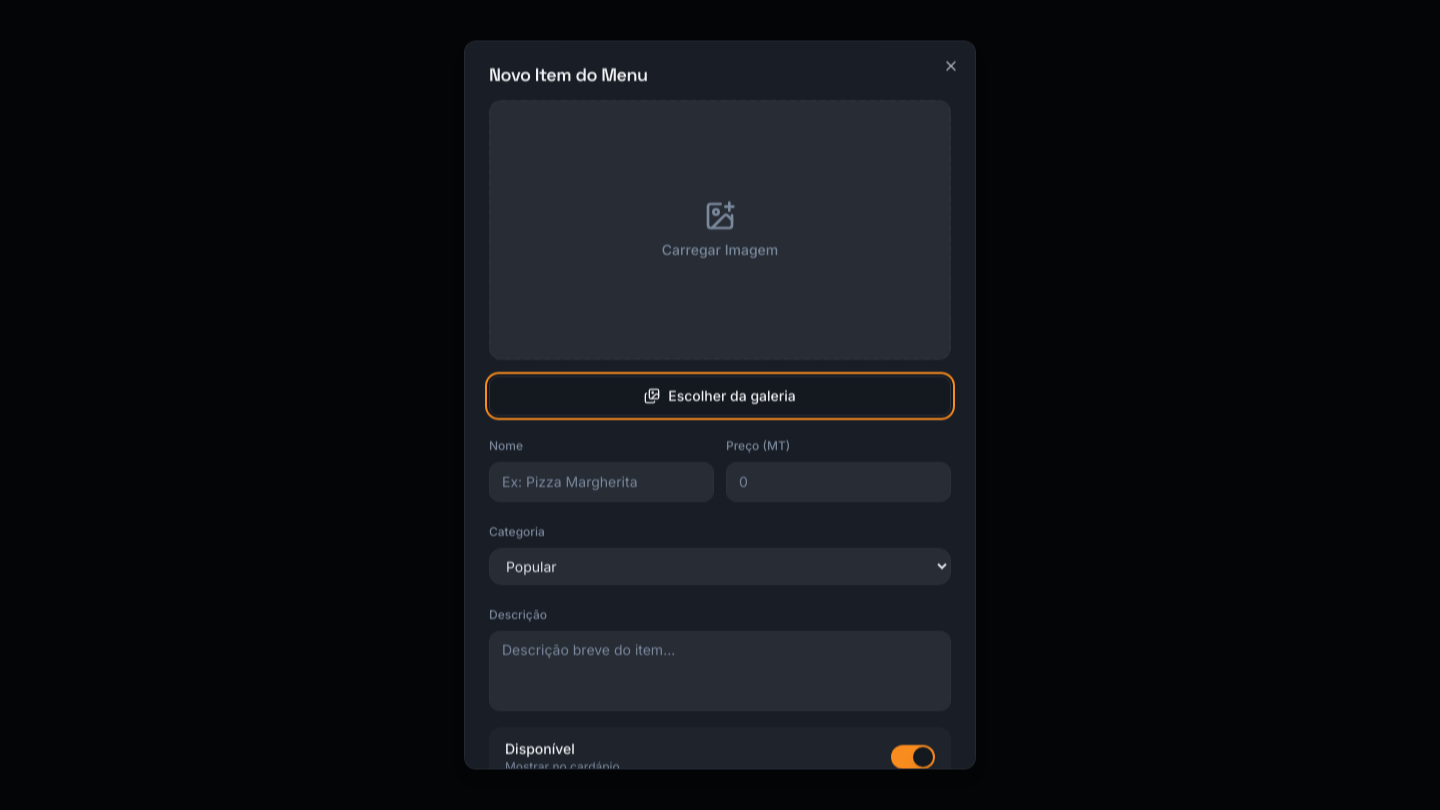
it: MenuItemDialog — categoria "Bebidas" › vincula uma bebida nova ao inventário e mostra o texto de desconto de stock
Select "Bebidas" in the dropdown showing "Popular" at (720, 566), box [489,547,951,584]
(page scrolled)
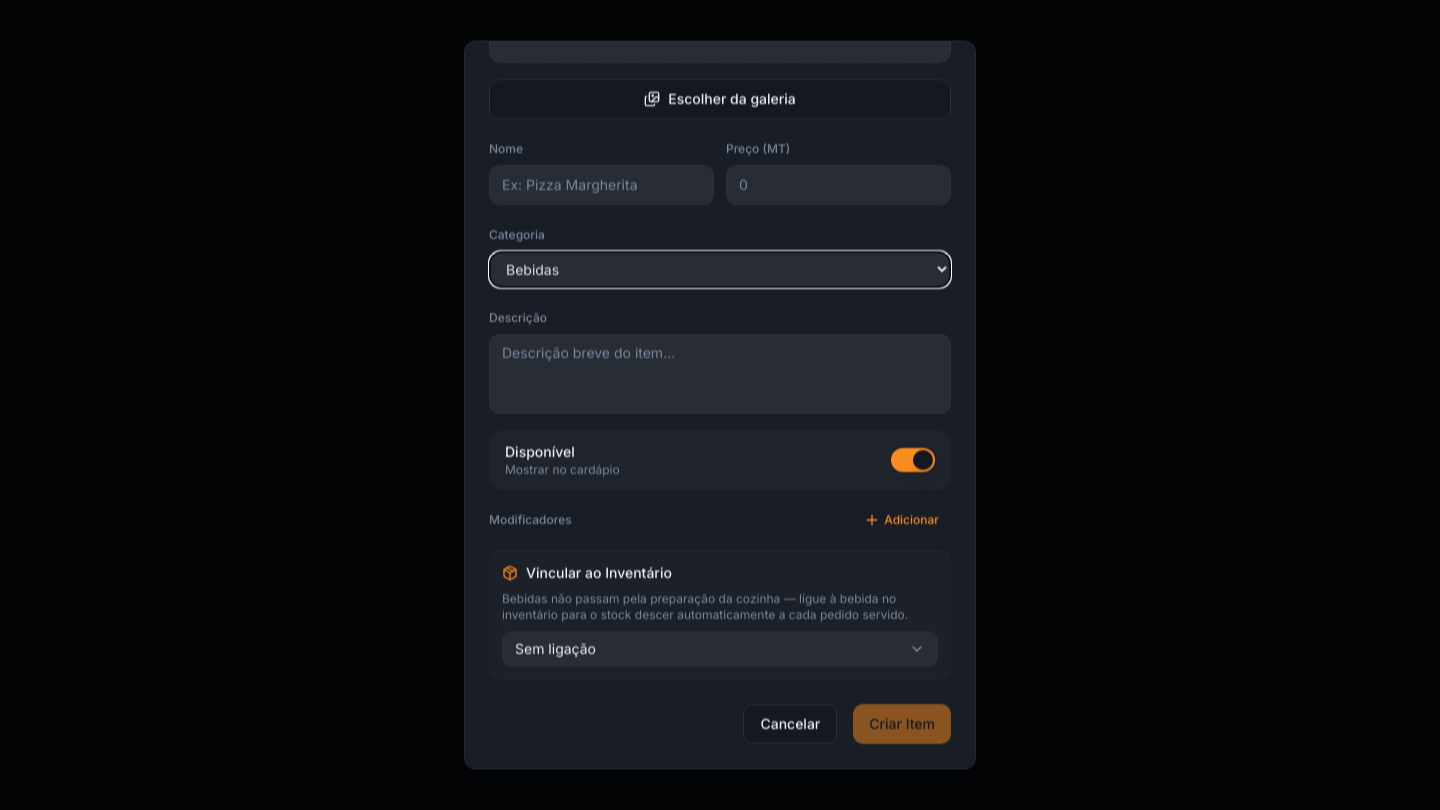
Click the dropdown labelled "Sem ligação" at (555, 649), box [502,631,938,667]
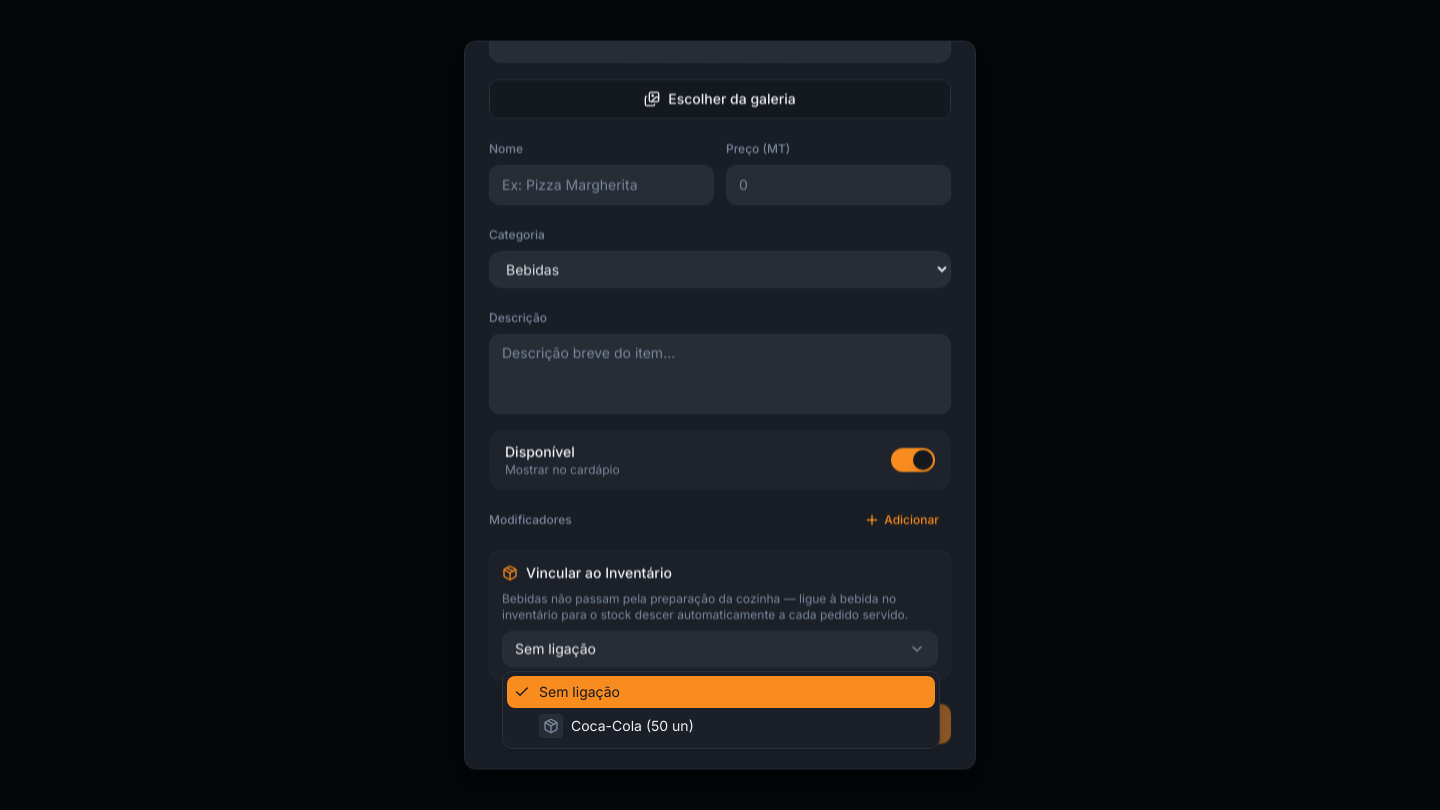
Click the option "Coca-Cola (50 un)" at (616, 726), box [539,714,694,738]
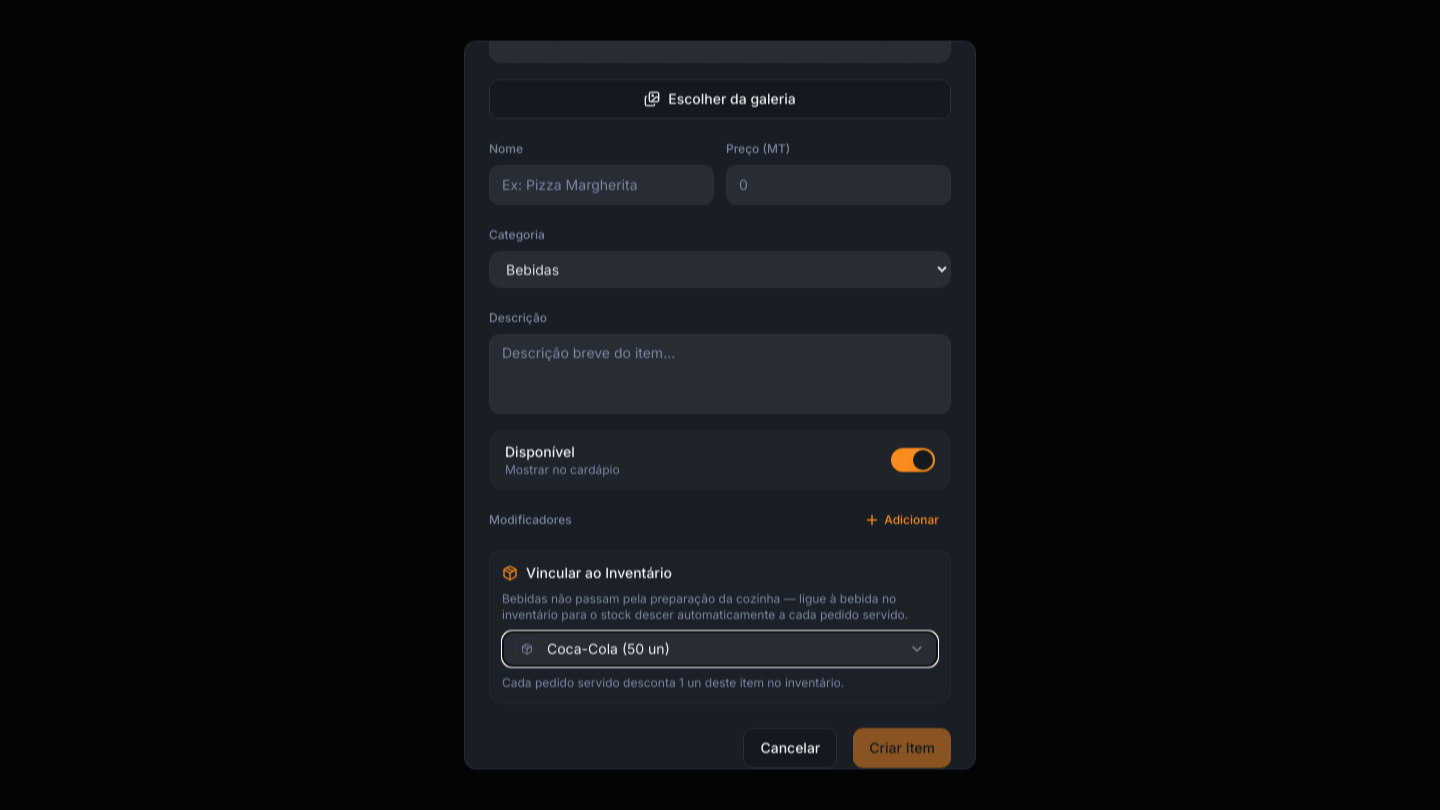
Expected: the text "Cada pedido servido desconta 1 un deste item no inventário." is shown, [502,675,844,690]
